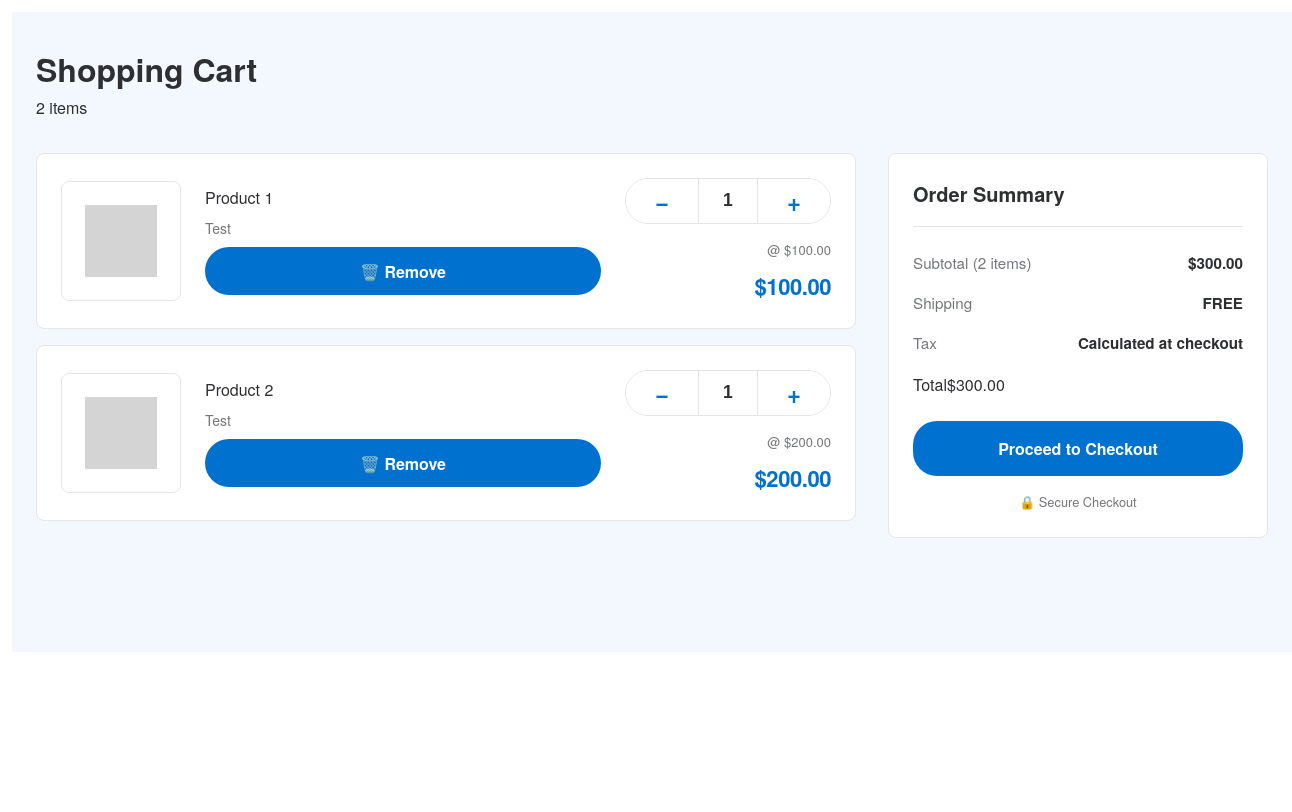
Test: Cart Integration Tests › clears entire cart when checkout is completed
The width and height of the screenshot is (1292, 812).
Expected: the heading "Product 1" is shown, x1=205 y1=186 x2=273 y2=209
Expected: the heading "Product 2" is shown, x1=205 y1=378 x2=273 y2=401
Click the button "Proceed to Checkout". click: (1078, 449)
box: x1=913 y1=421 x2=1243 y2=476
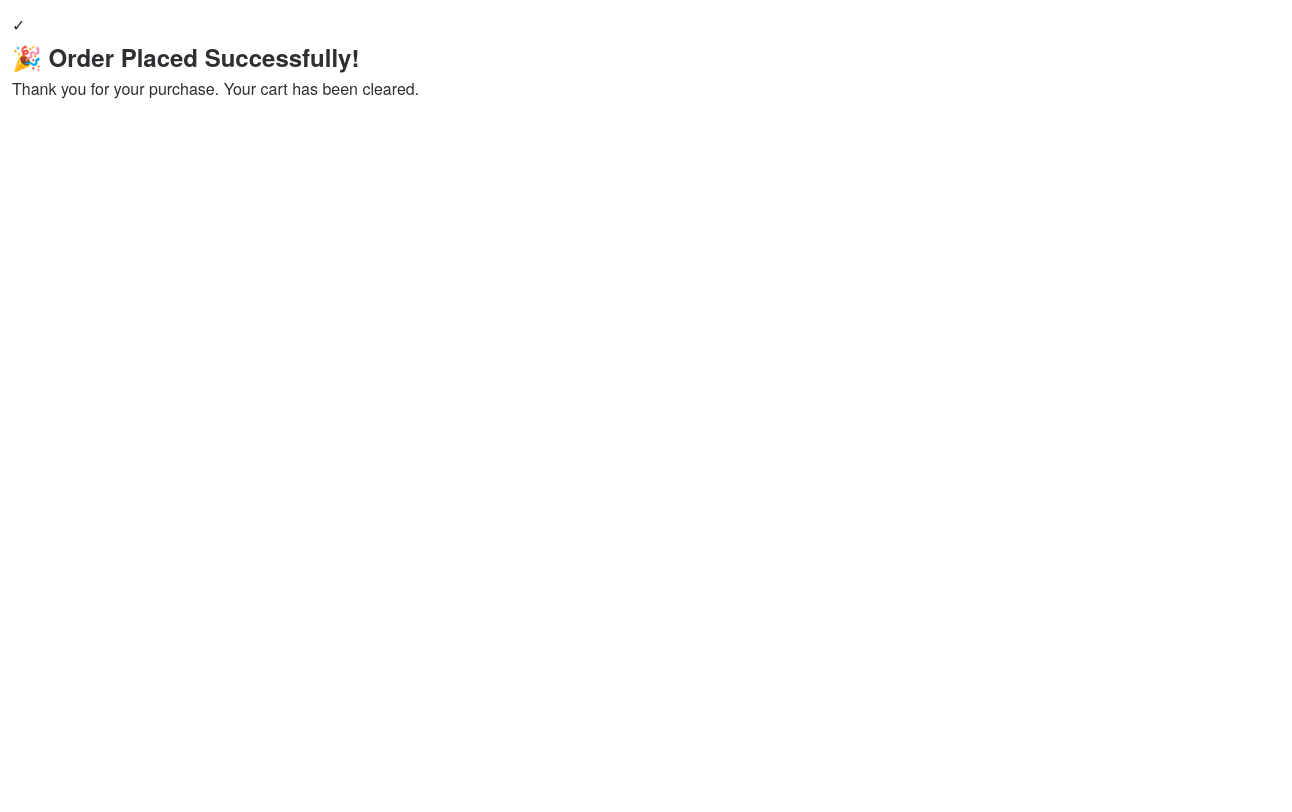
Expected: the heading "🎉 Order Placed Successfully!" is shown, x1=12 y1=40 x2=359 y2=74
